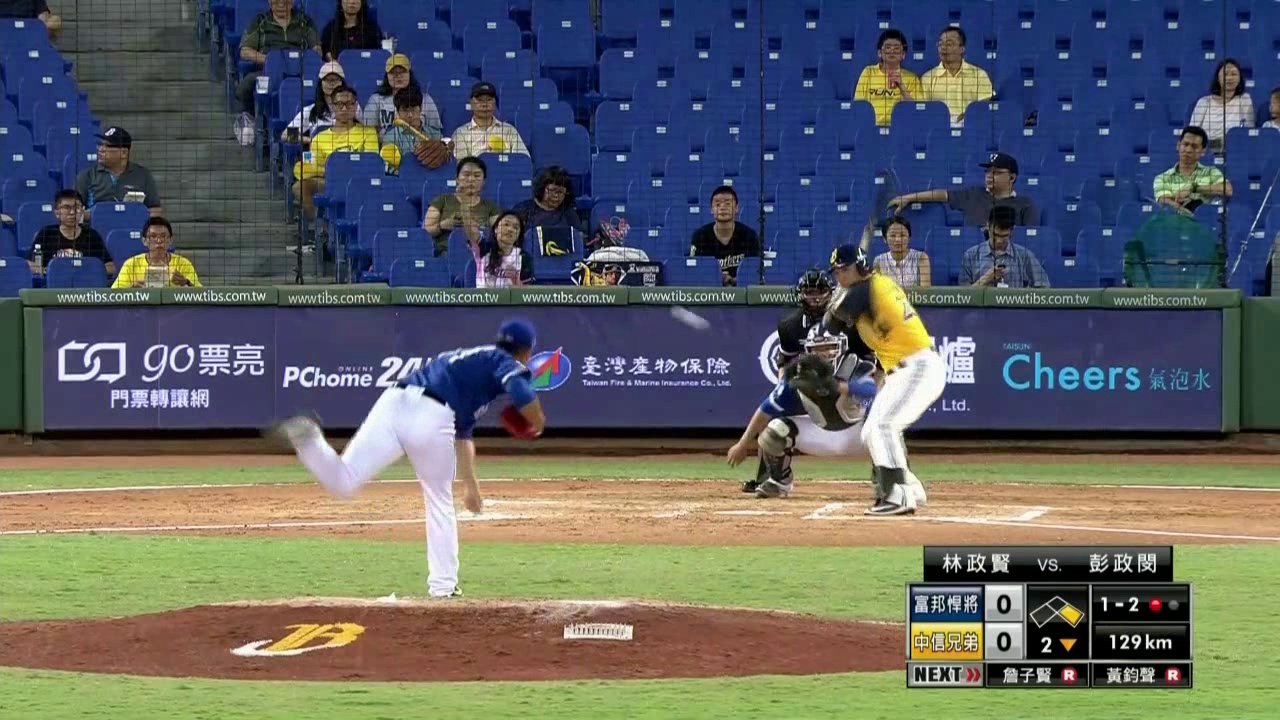ball: (682, 309, 698, 326)
base: (1028, 594, 1086, 628)
bat: (839, 165, 900, 295)
out: (1144, 589, 1183, 619)
score1: (986, 587, 1022, 619)
score2: (986, 625, 1020, 655)
session: (1026, 628, 1086, 659)
speed: (1094, 628, 1185, 660)
strikeball: (1095, 588, 1142, 621)
